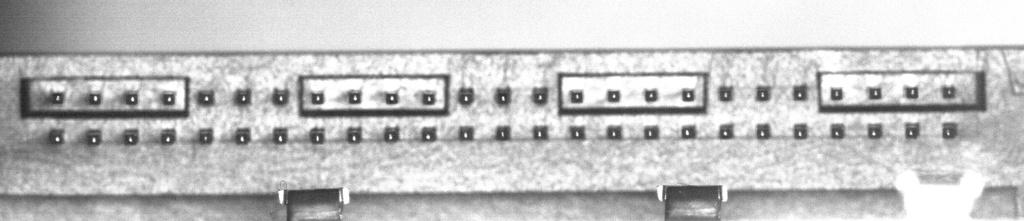pin_ok: (457, 87, 475, 105), (272, 87, 289, 105), (235, 88, 252, 105), (532, 86, 548, 104), (495, 86, 511, 104), (48, 128, 65, 144), (942, 122, 958, 139), (197, 89, 214, 105), (272, 128, 288, 144), (123, 129, 139, 145), (346, 127, 362, 143), (309, 128, 325, 144), (718, 85, 734, 101), (755, 85, 771, 101), (235, 127, 250, 144), (531, 125, 548, 140), (905, 122, 920, 139), (198, 128, 213, 144), (86, 129, 101, 145), (160, 129, 176, 144), (458, 126, 474, 141), (793, 123, 808, 139), (495, 125, 511, 140), (384, 126, 399, 142), (830, 123, 845, 139), (756, 123, 771, 139), (643, 125, 659, 140), (421, 126, 437, 141), (718, 124, 734, 139), (606, 125, 623, 139), (681, 124, 696, 139), (793, 85, 808, 100), (941, 84, 956, 99), (421, 90, 436, 105), (868, 123, 882, 139), (570, 125, 585, 139), (904, 85, 919, 99), (569, 89, 584, 103), (125, 91, 139, 105), (162, 92, 176, 106), (310, 90, 324, 104), (644, 88, 658, 102), (347, 90, 361, 104), (681, 88, 695, 102), (867, 86, 882, 99), (829, 87, 844, 100), (88, 91, 101, 105), (51, 90, 65, 103), (385, 91, 399, 104), (607, 89, 620, 102)
